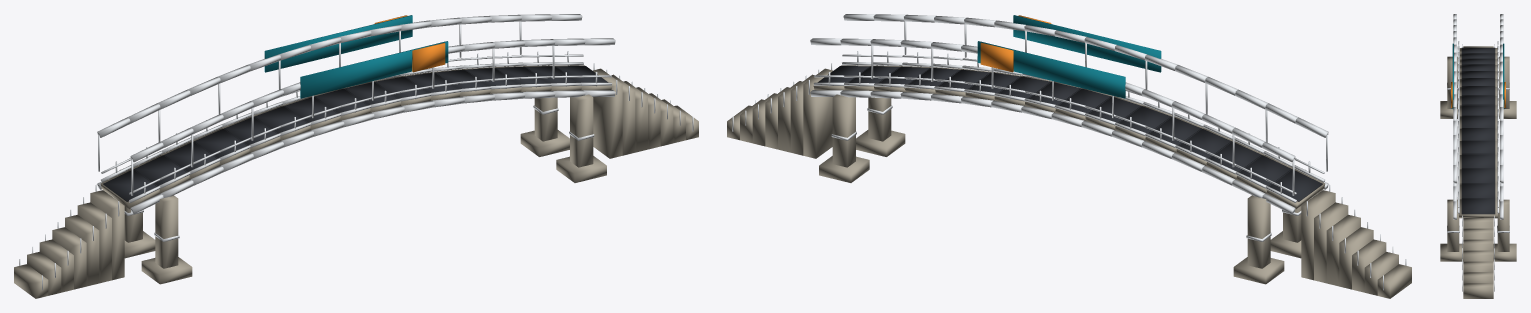
File: pedestrian_arch_bridge.glb
3 views of the same model, side by side, from view 1: azimuth 30°, elevation 25°; view 2: azimuth 150°, elevation 25°; view 3: azimuth 270°, elevation 25° (orthographic). The views are drawn at different scales.
Visible parts, largest first — view 1: Surface_concrete, Surface_steel, Surface_asphalt, Surface_sponsor_teal, Surface_sponsor_orange; view 2: Surface_concrete, Surface_steel, Surface_asphalt, Surface_sponsor_teal, Surface_sponsor_orange; view 3: Surface_concrete, Surface_asphalt, Surface_steel, Surface_sponsor_teal, Surface_sponsor_orange.
Boxes of the visible parts, bbox=[...] form: Surface_concrete: bbox=[14, 65, 698, 298]; Surface_steel: bbox=[19, 14, 693, 290]; Surface_asphalt: bbox=[103, 66, 608, 201]; Surface_sponsor_teal: bbox=[264, 15, 448, 98]; Surface_sponsor_orange: bbox=[374, 15, 445, 72]; Surface_concrete: bbox=[727, 65, 1411, 298]; Surface_steel: bbox=[732, 14, 1406, 290]; Surface_asphalt: bbox=[817, 66, 1322, 201]; Surface_sponsor_teal: bbox=[977, 15, 1161, 98]; Surface_sponsor_orange: bbox=[980, 15, 1051, 72]; Surface_concrete: bbox=[1440, 46, 1516, 298]; Surface_asphalt: bbox=[1461, 47, 1495, 214]; Surface_steel: bbox=[1447, 14, 1509, 291]; Surface_sponsor_teal: bbox=[1452, 43, 1504, 108]; Surface_sponsor_orange: bbox=[1451, 82, 1505, 107].
Size of the model in its own units: 49.55 by 11.7 by 7.
